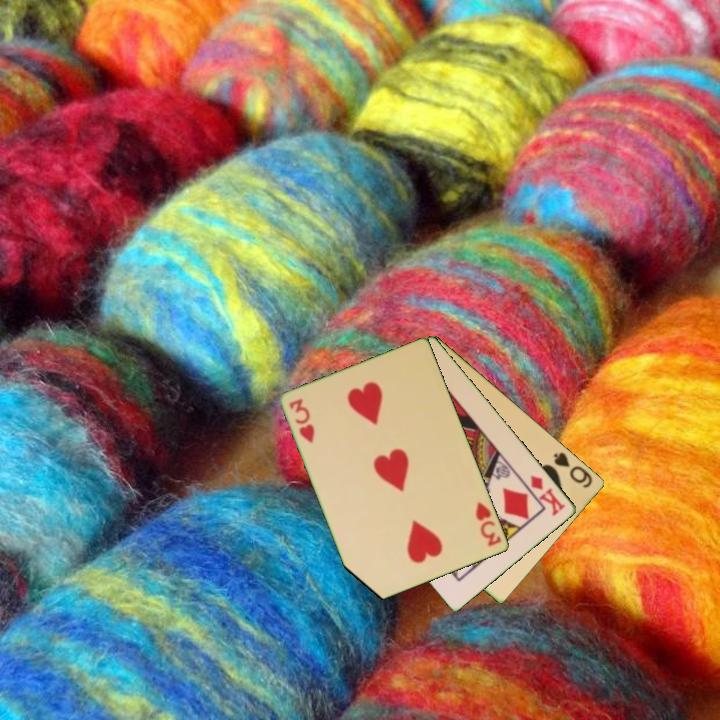3h: (472, 499, 504, 550), (286, 395, 318, 446)
6s: (551, 448, 596, 491)
Kd: (527, 472, 569, 519)
